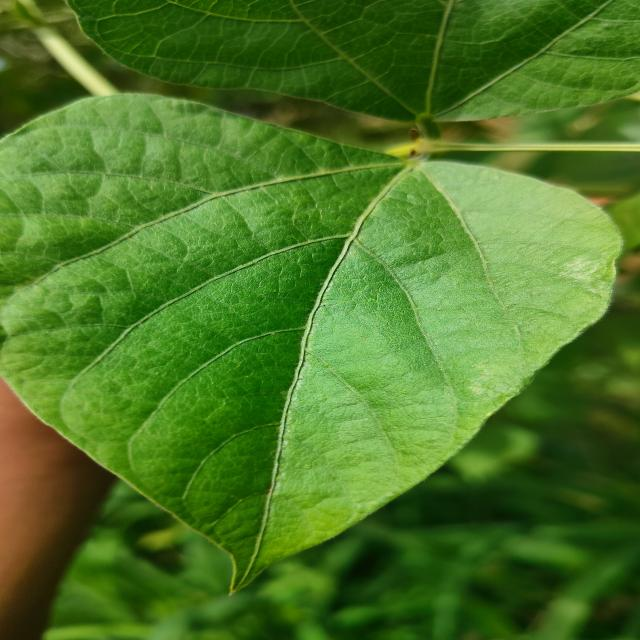Dolicos bean_healthy: (0, 85, 626, 581)
